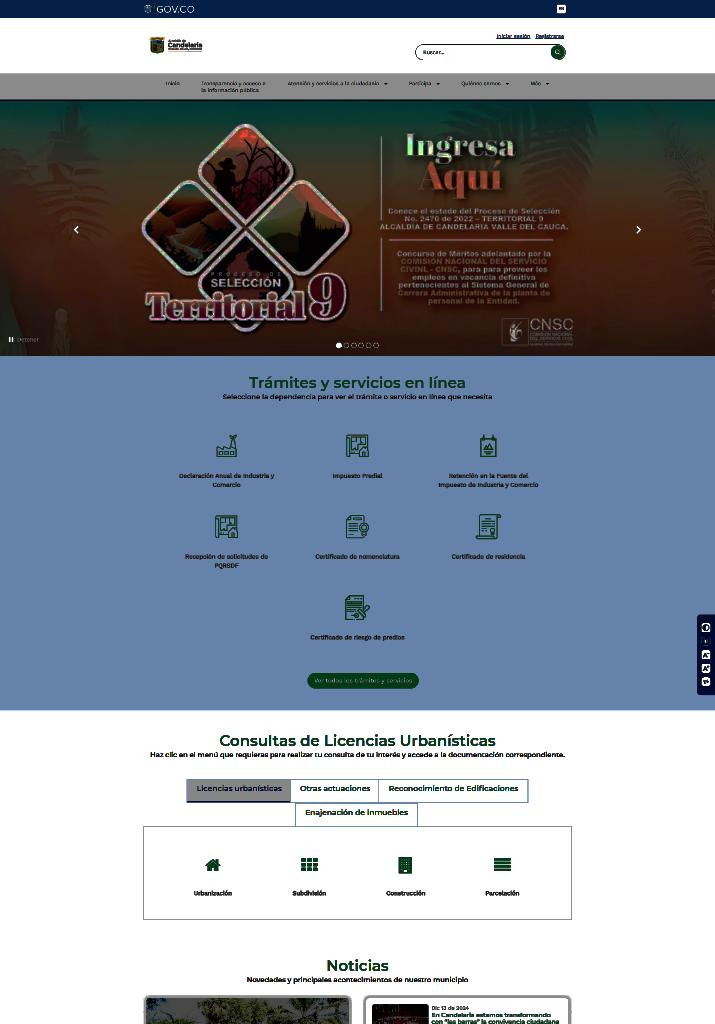banner principal: (0, 100, 714, 358)
barra accesibilidad: (698, 614, 714, 696)
barra govco: (142, 2, 570, 18)
btn atencion ciudadano: (287, 78, 391, 88)
btn buscador: (416, 44, 566, 60)
btn idiomas: (558, 5, 566, 13)
btn inicio: (164, 80, 182, 88)
btn inicio sesion: (497, 34, 531, 40)
btn noticias: (324, 958, 391, 976)
btn participa: (407, 78, 441, 88)
btn quienes somos: (460, 80, 512, 90)
btn registro: (536, 34, 566, 40)
btn tramites: (246, 371, 468, 393)
btn transpariencia: (199, 78, 267, 94)
logogovco: (142, 4, 195, 14)
menu principal: (165, 72, 556, 98)
